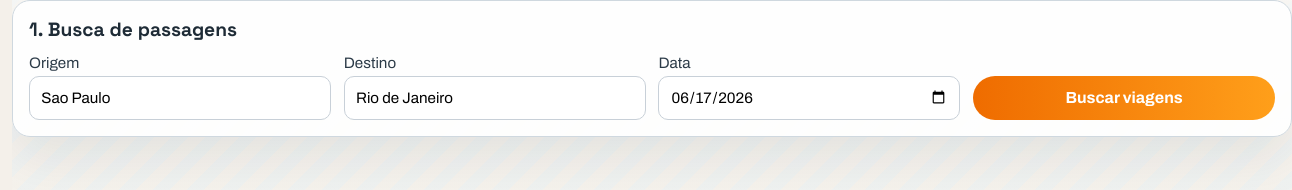
Test: SearchForm › deve permitir preencher os campos e buscar viagens
Replace the text in the field labelled "Origem" with "Curitiba" at (180, 98), box [29,76,331,120]
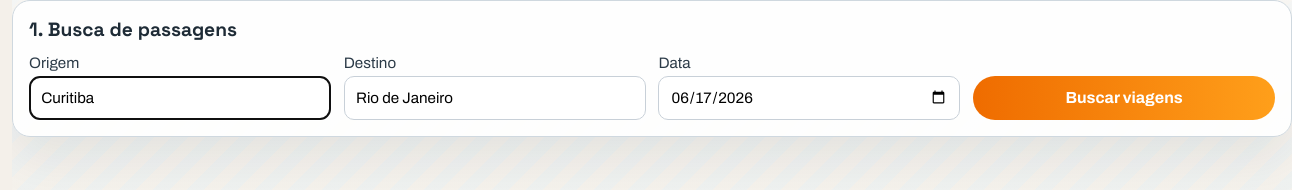
Replace the text in the field labelled "Destino" with "Florianopolis" at (495, 98), box [344,76,646,120]
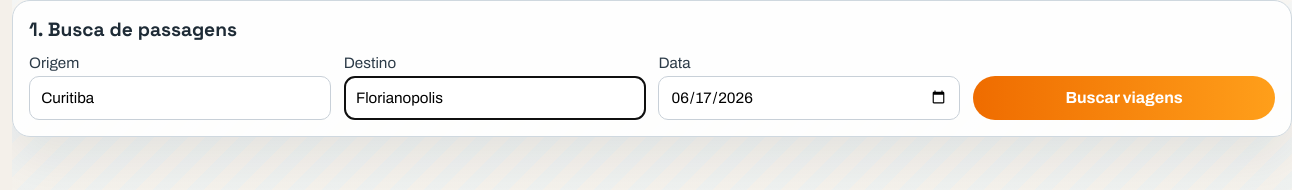
Type "2026-06-18" into the date field labelled "Data" at (809, 98), box [658,76,960,120]
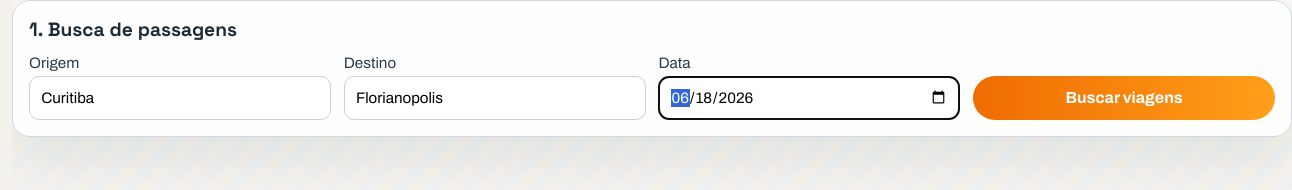
Click the button "Buscar viagens" at (1124, 98), box [973,76,1275,120]
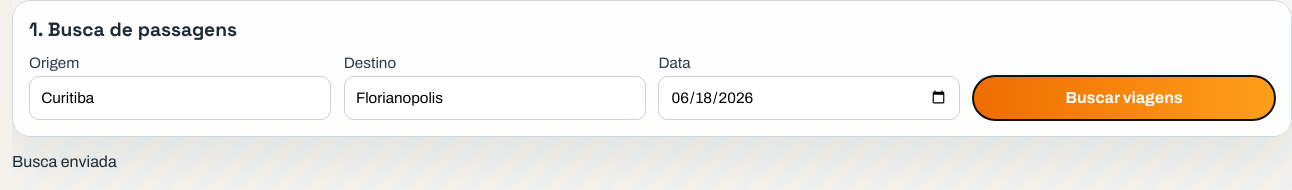
Expected: the text "Busca enviada" is shown, [12,153,117,170]
